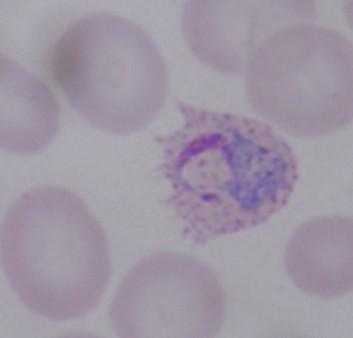Infected: (157, 98, 299, 246)
Uninfected: (2, 186, 110, 319), (55, 10, 166, 136), (247, 25, 353, 134), (176, 0, 320, 77), (111, 249, 227, 338), (286, 215, 353, 296)
